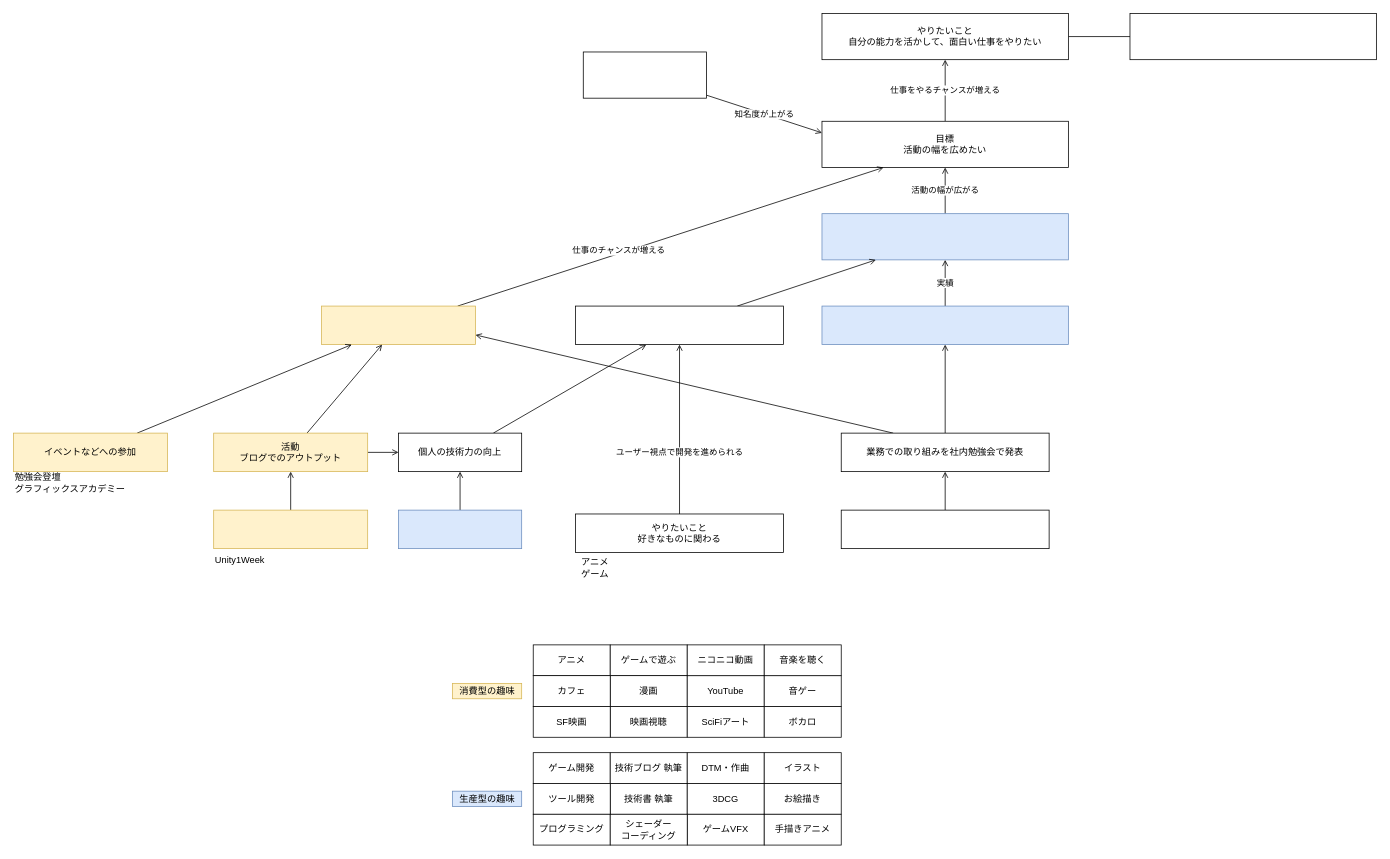
This 1390x859 diagram has some shape labels left out. Here are the shapes that lost their labels. From the top down, the box of each, then its label:
(1129, 13, 1376, 60): 目指すキャリア クライアントエンジニア 兼 TA 兼 描画エンジニア
(583, 51, 706, 98): 目標 技術カンファレンス
(821, 213, 1068, 260): 目標 仕事の実績を積む
(321, 305, 475, 345): 目標 個人のプレゼンス向上
(575, 305, 783, 345): プロダクトの品質向上
(821, 305, 1068, 345): 目標 組織の技術力の向上
(213, 509, 368, 549): 活動 個人でのゲーム開発
(398, 509, 522, 549): 活動 技術書を読む
(840, 509, 1049, 549): 業務 Unityを利用したゲーム開発
